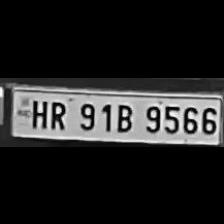1: (98, 98, 114, 132)
5: (161, 100, 179, 134)
6: (197, 102, 217, 134), (180, 100, 198, 134)
9: (73, 97, 97, 130), (140, 100, 162, 132)
B: (110, 100, 134, 132)
H: (27, 96, 47, 128)
R: (46, 96, 68, 130)
